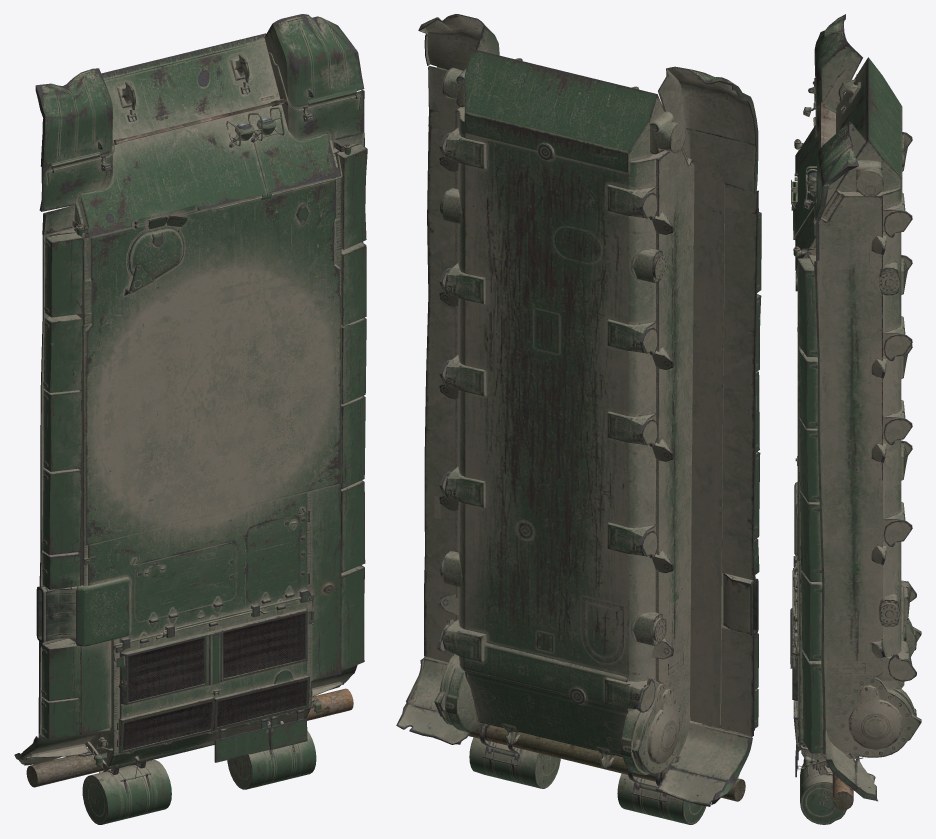
File: Hull.glb
3 renders of one model, left to right at view 1: azimuth 30°, elevation 25°; view 2: azimuth 150°, elevation 25°; view 3: azimuth 270°, elevation 25°, orthographic. The views are drawn at different scales.
Visible parts, largest first — view 1: set_0_group_0; view 2: set_0_group_0; view 3: set_0_group_0.
Part boxes in pixels (x1=…): set_0_group_0: x1=14, y1=14, x2=367, y2=824; set_0_group_0: x1=396, y1=14, x2=761, y2=824; set_0_group_0: x1=790, y1=14, x2=921, y2=824.
Bounding box in the file's own units: 3.27 × 7.26 × 1.24.
1 material, 1 textured.
